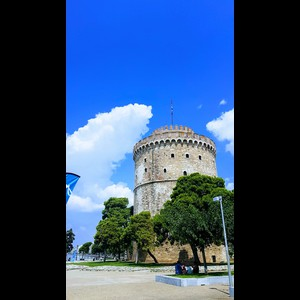White Tower: (128, 99, 228, 264)
